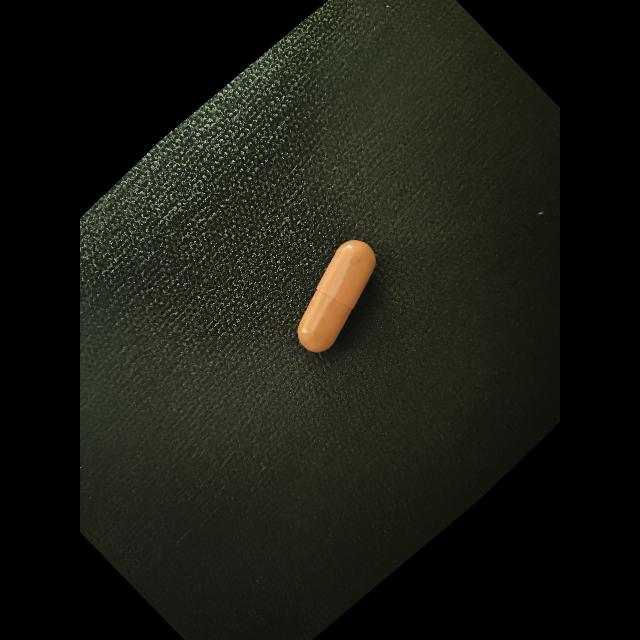Intact Capsule: (297, 239, 376, 352)
